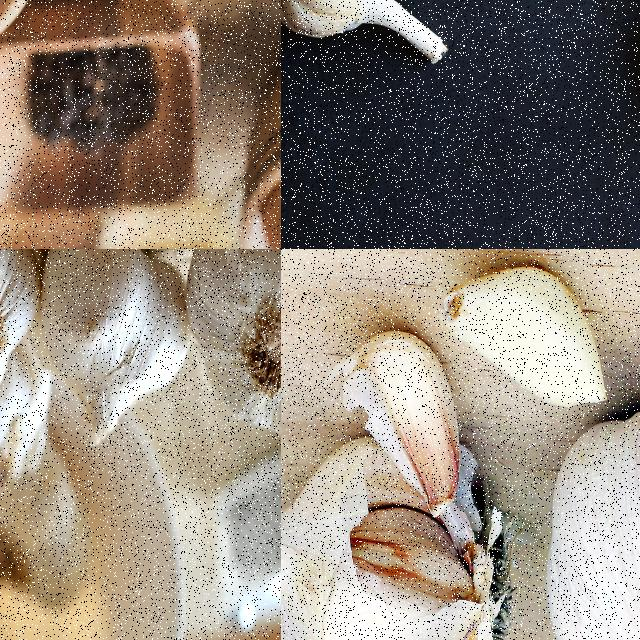garlic: (281, 438, 514, 639), (24, 249, 198, 449), (438, 260, 612, 406), (336, 324, 469, 513), (179, 249, 280, 446), (281, 0, 445, 66)
